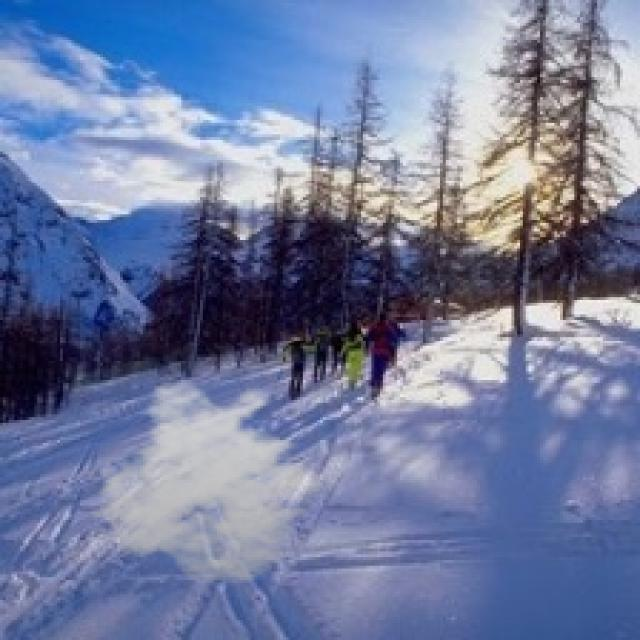Smoke: (89, 377, 338, 586)
